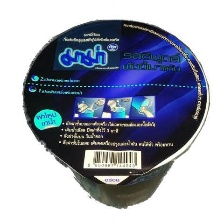paper_cup: (14, 13, 214, 213)
